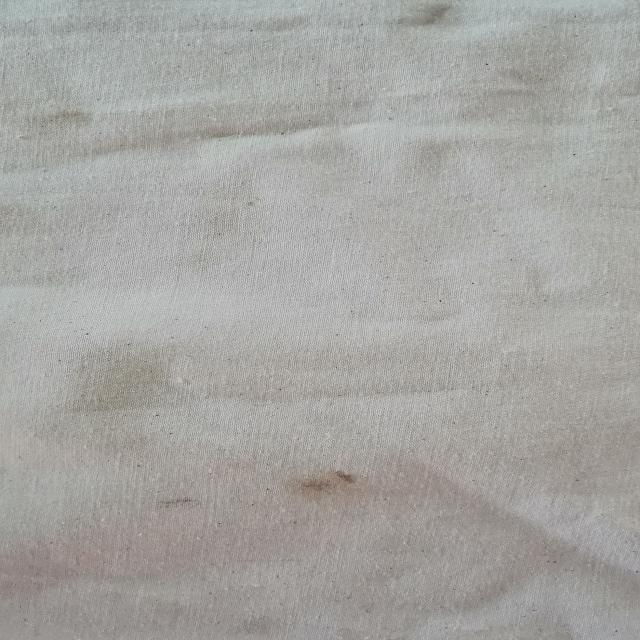taaaches: (291, 464, 393, 514), (393, 0, 482, 40), (147, 485, 212, 525)
